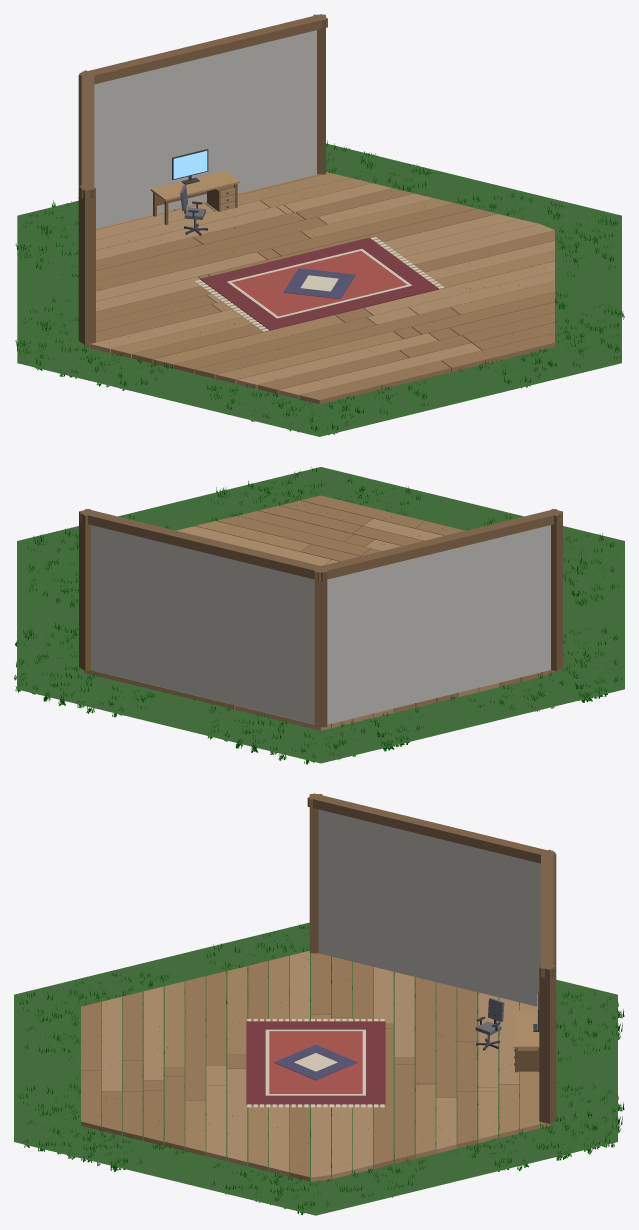
The model's file is Hextile Music.glb.
3 renders of one model, top to bottom at view 1: azimuth 30°, elevation 25°; view 2: azimuth 150°, elevation 25°; view 3: azimuth 270°, elevation 25°, orthographic.
Parts seen in each view (by area): view 1: HexTile_Master, Wall_N_Concrete, Rug_Base, Wall_N_TopBeam, Plank_05_0, Wall_Post_2, Plank_17_0, Plank_16_0, Plank_01_0, Plank_06_0, Plank_03_0, Plank_15_2 (+52 smaller); view 2: HexTile_Master, Wall_N_Concrete, Wall_NW_Concrete, Wall_N_TopBeam, Wall_NW_TopBeam, Wall_Post_1, Wall_Post_0, Wall_Post_2, Plank_04_2, Plank_06_2, Grass_Field_OriginTile.003, Plank_00_1 (+14 smaller); view 3: HexTile_Master, Wall_NW_Concrete, Rug_Base, Wall_NW_TopBeam, Wall_Post_0, Plank_05_0, Plank_17_0, Plank_16_0, Plank_15_2, Plank_14_2, Plank_07_2, Plank_01_0 (+51 smaller).
Boxes of the visible parts, x1,y1,x2,y2 form: HexTile_Master: (17, 143, 621, 436); Wall_N_Concrete: (94, 30, 316, 227); Rug_Base: (201, 251, 437, 330); Wall_N_TopBeam: (79, 14, 327, 84); Plank_05_0: (194, 307, 459, 378); Wall_Post_2: (78, 183, 95, 345); Plank_17_0: (96, 217, 326, 280); Plank_16_0: (96, 231, 309, 291); Plank_01_0: (278, 343, 481, 399); Plank_06_0: (173, 317, 375, 373); Plank_03_0: (236, 333, 438, 388); Plank_15_2: (271, 203, 476, 256); HexTile_Master: (17, 467, 624, 763); Wall_N_Concrete: (91, 525, 314, 724); Wall_NW_Concrete: (327, 525, 550, 724); Wall_N_TopBeam: (80, 509, 328, 581); Wall_NW_TopBeam: (313, 509, 562, 581); Wall_Post_1: (314, 569, 327, 727); Wall_Post_0: (79, 509, 90, 671); Wall_Post_2: (551, 509, 562, 671); Plank_04_2: (217, 516, 370, 556); Plank_06_2: (176, 526, 331, 565); Grass_Field_OriginTile.003: (14, 621, 194, 717); Plank_00_1: (301, 495, 424, 528); HexTile_Master: (14, 922, 617, 1215); Wall_NW_Concrete: (318, 809, 540, 1006); Rug_Base: (246, 1031, 385, 1104); Wall_NW_TopBeam: (307, 793, 555, 863); Wall_Post_0: (539, 965, 556, 1123); Plank_05_0: (185, 976, 205, 1100); Plank_17_0: (436, 982, 456, 1097); Plank_16_0: (415, 977, 435, 1084); Plank_15_2: (394, 1064, 414, 1163); Plank_14_2: (373, 1028, 393, 1168); Plank_07_2: (227, 1069, 247, 1165); Plank_01_0: (101, 997, 121, 1091).
Bounding box in the file's own units: 10 × 2.58 × 8.76.
